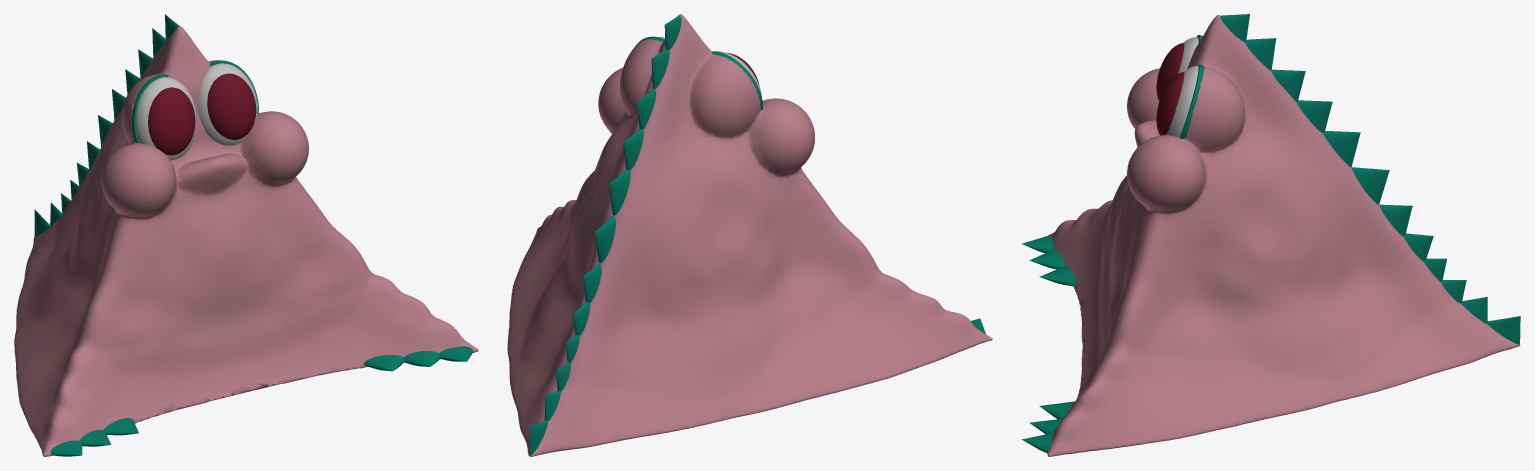
File: changle-segua.glb
3 renders of one model, left to right at view 1: azimuth 30°, elevation 25°; view 2: azimuth 150°, elevation 25°; view 3: azimuth 270°, elevation 25°, orthographic. The views are drawn at different scales.
Parts seen in each view (by area): view 1: Sphere 6; view 2: Sphere 6; view 3: Sphere 6.
Part boxes in pixels (x1,y1,x2,y2): Sphere 6: (14,14,478,456); Sphere 6: (507,14,992,456); Sphere 6: (1021,14,1520,456).
Size of the model in its own units: 1105 by 780 by 1053.
